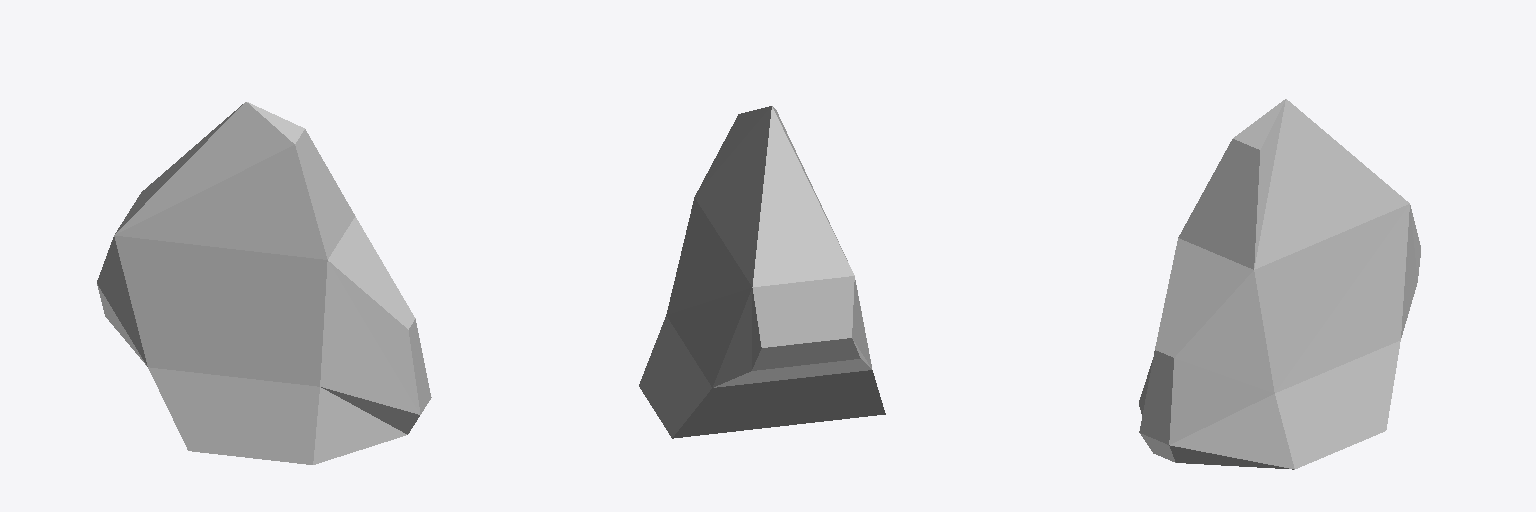
The model's file is mLv1Mountain04.obj.
3 views of the same model, side by side, from view 1: azimuth 30°, elevation 25°; view 2: azimuth 150°, elevation 25°; view 3: azimuth 270°, elevation 25° (orthographic).
Parts seen in each view (by area): view 1: mStoneBolder4; view 2: mStoneBolder4; view 3: mStoneBolder4.
Part boxes in pixels (left/top/right/bottom): mStoneBolder4: left=97, top=102, right=431, bottom=464; mStoneBolder4: left=639, top=106, right=885, bottom=438; mStoneBolder4: left=1139, top=99, right=1420, bottom=469.
Bounding box in the file's own units: 20.72 × 25.04 × 20.83.